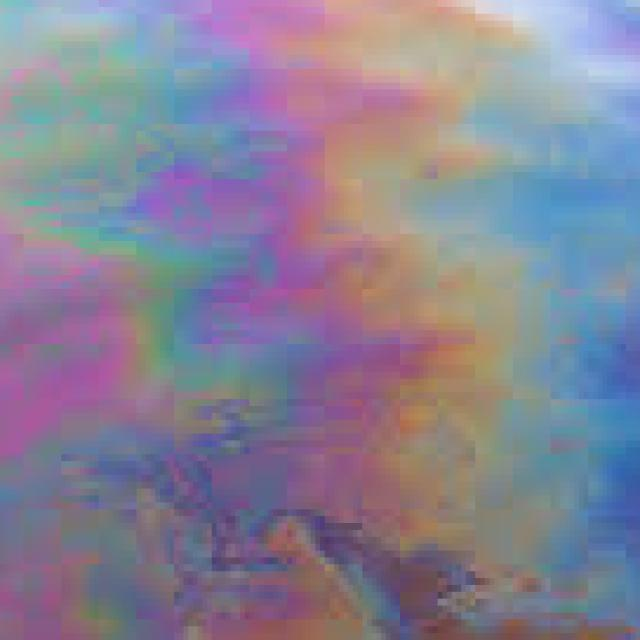-: (0, 0, 640, 640), (0, 0, 612, 502)
